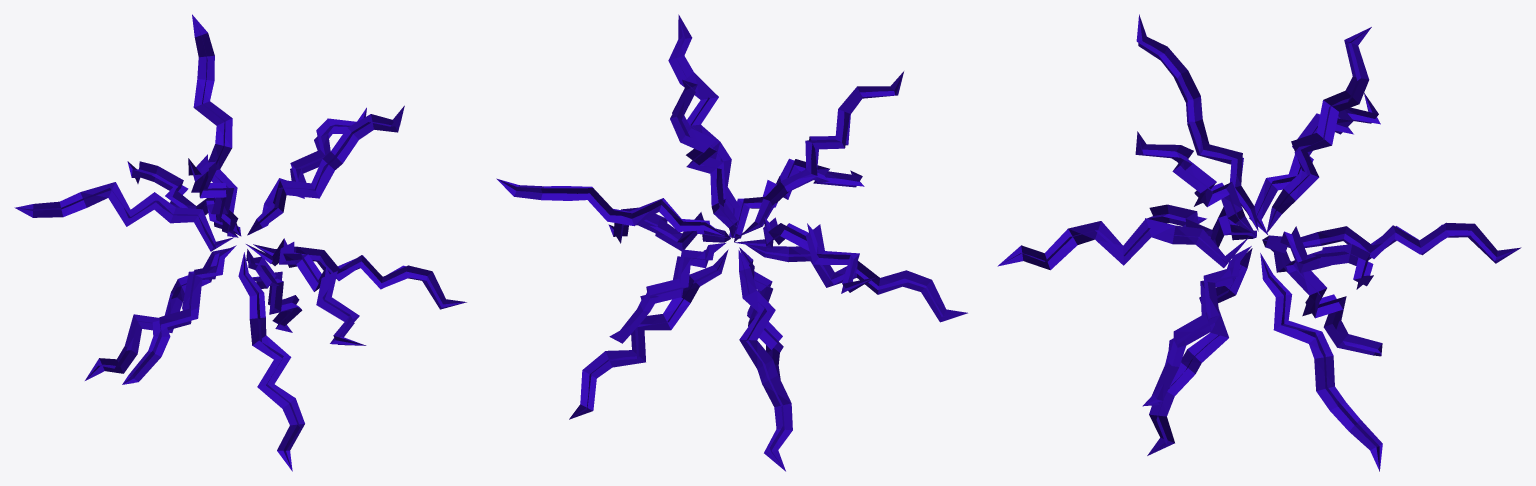
The model's file is SM_EFF_Lightning_C_01.mo.fbx.
3 views of the same model, side by side, from view 1: azimuth 30°, elevation 25°; view 2: azimuth 150°, elevation 25°; view 3: azimuth 270°, elevation 25° (orthographic). The views are drawn at different scales.
Visible parts, largest first — view 1: SM_EFF_Lightning_C_01.mo; view 2: SM_EFF_Lightning_C_01.mo; view 3: SM_EFF_Lightning_C_01.mo.
Part boxes in pixels (x1,y1,x2,y2): SM_EFF_Lightning_C_01.mo: [14, 14, 466, 471]; SM_EFF_Lightning_C_01.mo: [496, 14, 967, 471]; SM_EFF_Lightning_C_01.mo: [997, 14, 1521, 471].
Size of the model in its own units: 1.2 by 1.23 by 1.36.
